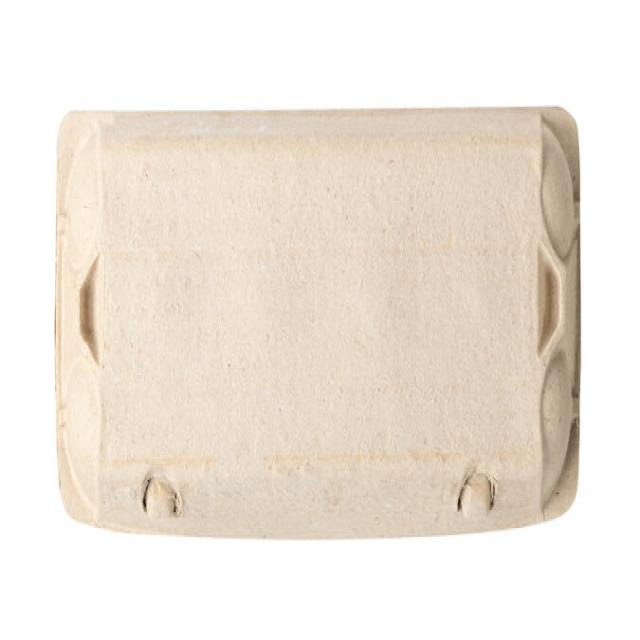egg carton: (49, 89, 597, 556)
